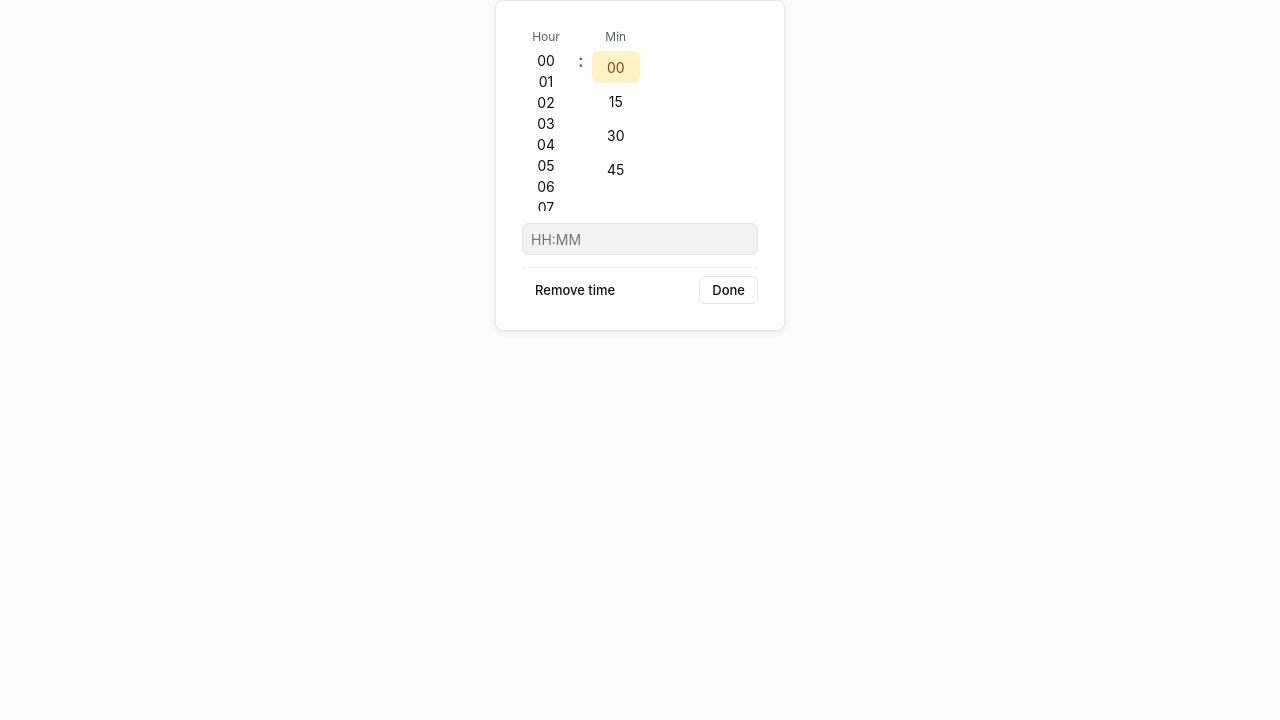
TimePicker — free-text validation › typing 'abc' in the free-text field then blurring shows 'Enter a valid time (HH:MM).' error
// Type an invalid value and blur
Type "abc" into the field named "enter time" at point(640, 239), box [522, 223, 758, 255]
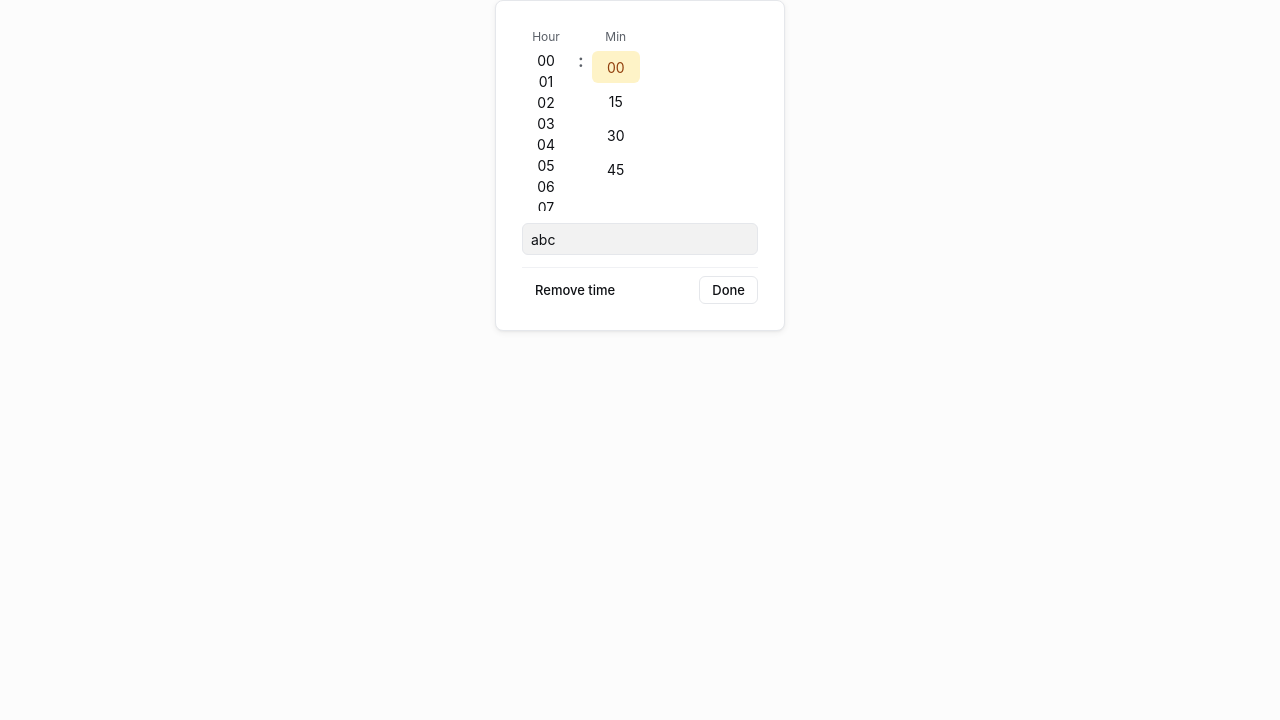
Leave the field named "enter time", box [522, 223, 758, 255]
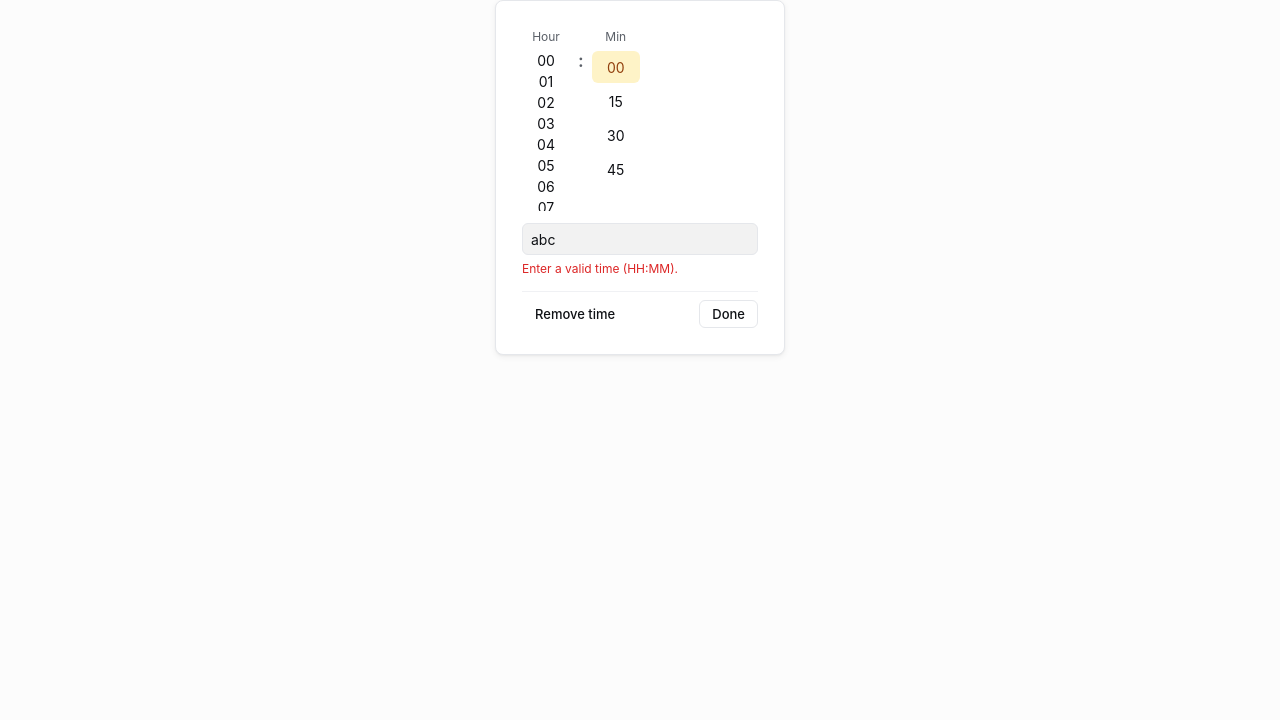
Now the text "Enter a valid time (HH:MM)." is shown, box [522, 261, 678, 276]
